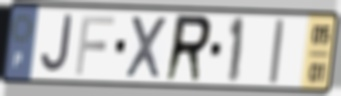1: (225, 15, 245, 85)
F: (73, 13, 117, 78)
I: (267, 18, 286, 87)
J: (39, 13, 74, 76)
R: (162, 12, 215, 84)
X: (123, 13, 169, 81)
